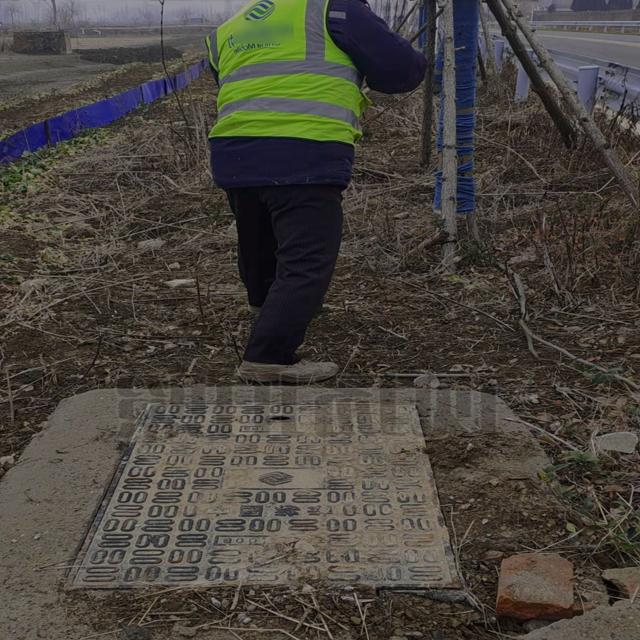good: (57, 396, 462, 592)
